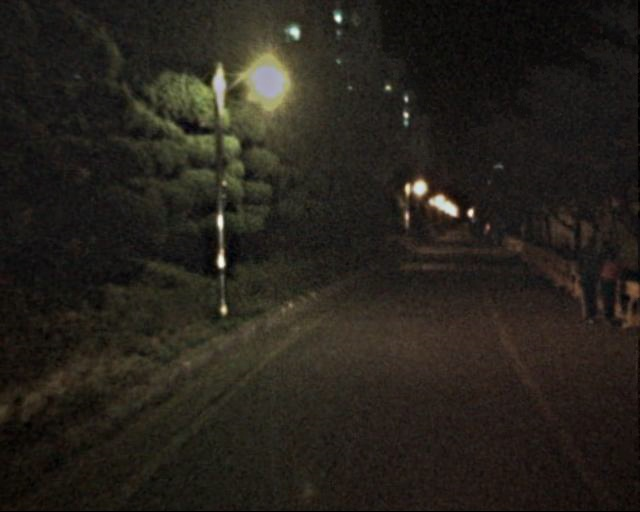person: (572, 239, 608, 326), (587, 237, 621, 320)
